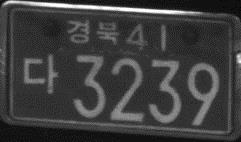1: (154, 24, 171, 52)
2: (109, 57, 144, 122)
3: (72, 54, 106, 118), (148, 59, 181, 123)
4: (125, 23, 150, 49)
9: (186, 62, 220, 127)
경북_O: (66, 18, 120, 46)
다: (23, 54, 58, 94)
